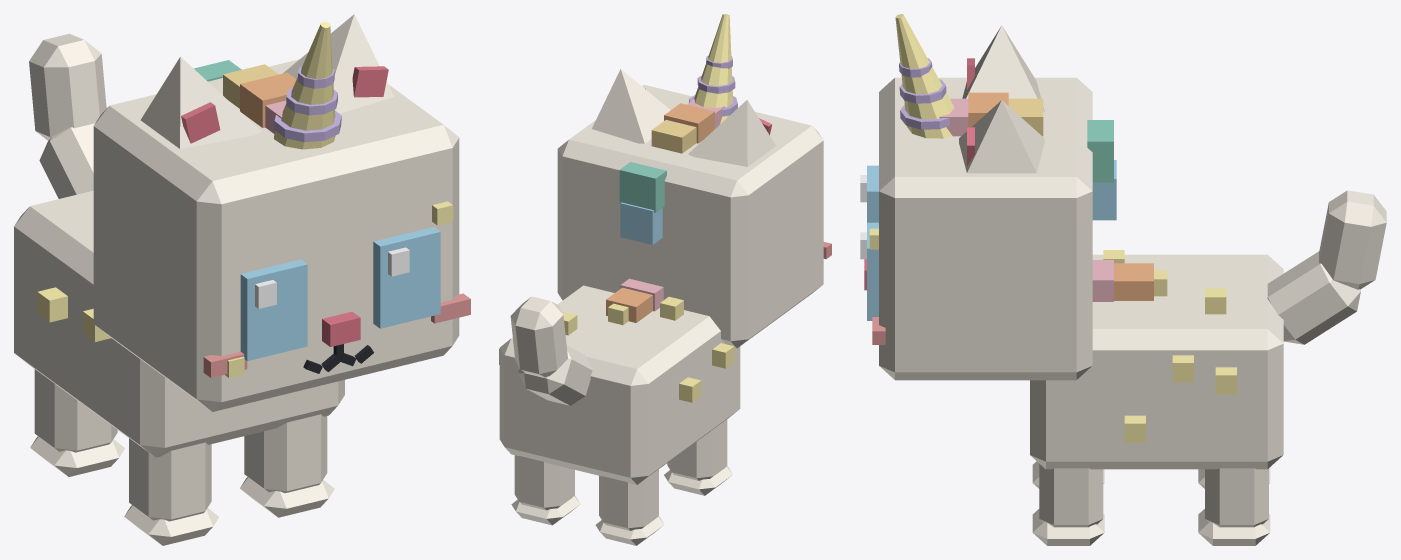
Rendered from CatCafe_Cat_Wisp.glb.
The picture shows the model from 3 angles, left to right: view 1: azimuth 30°, elevation 25°; view 2: azimuth 150°, elevation 25°; view 3: azimuth 270°, elevation 25°; orthographic projection. The views are drawn at different scales.
Parts seen in each view (by area): view 1: CatCafe_Cat_Wisp_Head, CatCafe_Cat_Wisp_Body, CatCafe_Cat_Wisp_Tail, CatCafe_Cat_Wisp_LegF2, CatCafe_Cat_Wisp_LegF1, CatCafe_Cat_Wisp_Eye1, CatCafe_Cat_Wisp_Eye2, CatCafe_Cat_Wisp_LegB2, CatCafe_Cat_Wisp_EarR, CatCafe_Cat_Wisp_Prop, CatCafe_Cat_Wisp_EarL; view 2: CatCafe_Cat_Wisp_Head, CatCafe_Cat_Wisp_Body, CatCafe_Cat_Wisp_Tail, CatCafe_Cat_Wisp_LegB2, CatCafe_Cat_Wisp_LegB1, CatCafe_Cat_Wisp_EarL, CatCafe_Cat_Wisp_EarR, CatCafe_Cat_Wisp_LegF2, CatCafe_Cat_Wisp_Prop; view 3: CatCafe_Cat_Wisp_Head, CatCafe_Cat_Wisp_Body, CatCafe_Cat_Wisp_Tail, CatCafe_Cat_Wisp_LegF1, CatCafe_Cat_Wisp_LegB1, CatCafe_Cat_Wisp_EarL, CatCafe_Cat_Wisp_Prop, CatCafe_Cat_Wisp_EarR, CatCafe_Cat_Wisp_Eye1, CatCafe_Cat_Wisp_Eye2.
Part boxes in pixels (left/top/right/bottom): CatCafe_Cat_Wisp_Head: left=93, top=59, right=470, bottom=411; CatCafe_Cat_Wisp_Body: left=14, top=190, right=344, bottom=457; CatCafe_Cat_Wisp_Tail: left=29, top=33, right=106, bottom=198; CatCafe_Cat_Wisp_LegF2: left=124, top=438, right=218, bottom=545; CatCafe_Cat_Wisp_LegF1: left=240, top=414, right=334, bottom=517; CatCafe_Cat_Wisp_Eye1: left=373, top=227, right=440, bottom=328; CatCafe_Cat_Wisp_Eye2: left=240, top=259, right=307, bottom=360; CatCafe_Cat_Wisp_LegB2: left=30, top=369, right=124, bottom=476; CatCafe_Cat_Wisp_EarR: left=140, top=56, right=261, bottom=148; CatCafe_Cat_Wisp_Prop: left=274, top=22, right=341, bottom=149; CatCafe_Cat_Wisp_EarL: left=283, top=14, right=394, bottom=113; CatCafe_Cat_Wisp_Head: left=557, top=84, right=831, bottom=348; CatCafe_Cat_Wisp_Body: left=499, top=278, right=740, bottom=484; CatCafe_Cat_Wisp_Tail: left=510, top=296, right=592, bottom=405; CatCafe_Cat_Wisp_LegB2: left=595, top=469, right=664, bottom=545; CatCafe_Cat_Wisp_LegB1: left=511, top=455, right=580, bottom=525; CatCafe_Cat_Wisp_EarL: left=592, top=69, right=670, bottom=143; CatCafe_Cat_Wisp_EarR: left=688, top=100, right=775, bottom=166; CatCafe_Cat_Wisp_LegF2: left=664, top=419, right=732, bottom=495; CatCafe_Cat_Wisp_Prop: left=689, top=14, right=737, bottom=124; CatCafe_Cat_Wisp_Head: left=864, top=77, right=1116, bottom=380; CatCafe_Cat_Wisp_Body: left=1030, top=250, right=1283, bottom=469; CatCafe_Cat_Wisp_Tail: left=1267, top=190, right=1386, bottom=344; CatCafe_Cat_Wisp_LegF1: left=1032, top=464, right=1104, bottom=545; CatCafe_Cat_Wisp_LegB1: left=1198, top=468, right=1270, bottom=545; CatCafe_Cat_Wisp_EarL: left=959, top=100, right=1044, bottom=173; CatCafe_Cat_Wisp_Prop: left=895, top=14, right=954, bottom=138; CatCafe_Cat_Wisp_EarR: left=962, top=25, right=1044, bottom=112; CatCafe_Cat_Wisp_Eye1: left=860, top=222, right=878, bottom=320; CatCafe_Cat_Wisp_Eye2: left=860, top=165, right=878, bottom=222.
Bounding box in the file's own units: 1 × 2.05 × 1.97.
Materials: 1 (1 with a texture image).
